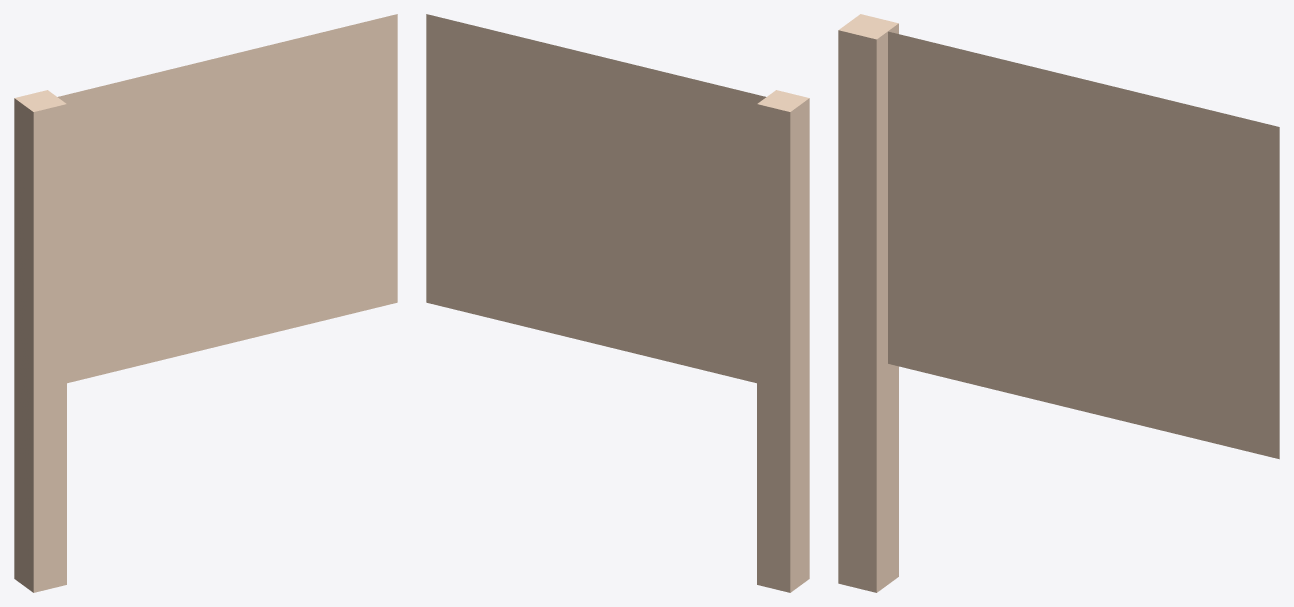
File: Abstract_Castle_Flag_Beige_01.fbx
3 renders of one model, left to right at view 1: azimuth 30°, elevation 25°; view 2: azimuth 150°, elevation 25°; view 3: azimuth 330°, elevation 25°, orthographic. The views are drawn at different scales.
Parts seen in each view (by area): view 1: Abstract_Castle_Flag_Beige_01; view 2: Abstract_Castle_Flag_Beige_01; view 3: Abstract_Castle_Flag_Beige_01.
Boxes of the visible parts, x1,y1,x2,y2 form: Abstract_Castle_Flag_Beige_01: [14, 14, 397, 592]; Abstract_Castle_Flag_Beige_01: [426, 14, 809, 592]; Abstract_Castle_Flag_Beige_01: [838, 14, 1279, 592].
Bounding box in the file's own units: 42.76 × 52.59 × 3.81.
